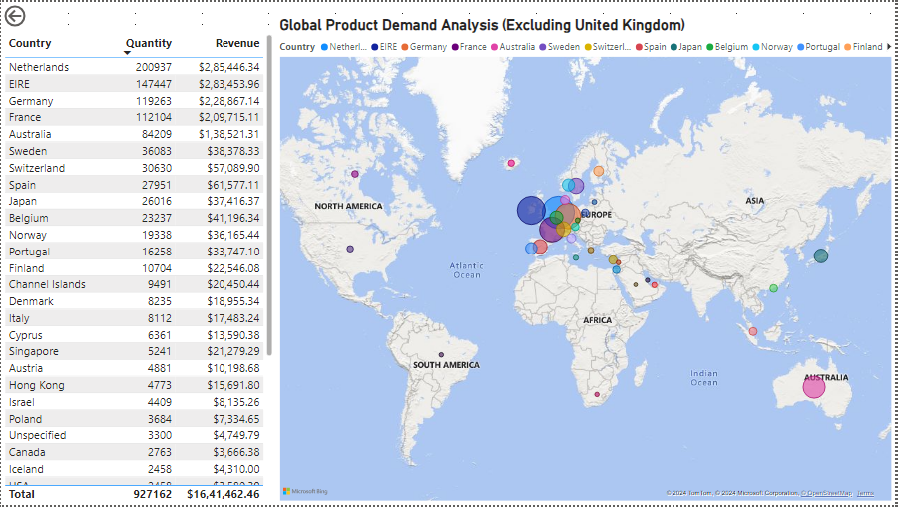

What the dashboard file says about the page in this screenshot:
{"tool":"powerbi","page":{"name":"Question 4","canvas":[1280,720],"ordinal":3},"visuals":[{"type":"map","title":"Global Product Demand Analysis (Excluding United Kingdom)","fields":{"Category":["OnlineRetail.Country"],"Size":["Sum(OnlineRetail.Quantity)"],"Series":["OnlineRetail.Country"]},"box":[394.2,20.4,885.8,699.6],"z":0},{"type":"actionButton","box":[0,0,100,40],"z":1000},{"type":"tableEx","fields":{"Values":["OnlineRetail.Country","Sum(OnlineRetail.Quantity)","Sum(OnlineRetail.Revenue)"]},"box":[0,40.7,394.2,679.3],"z":2000}]}

Visuals, with their boxes in screenshot pixels (x1, y1, x2, y2), scaled from the page's 1280x720 canvas onto the 898x507 screenshot:
"Global Product Demand Analysis (Excluding United Kingdom)" map: x1=277 y1=14 x2=897 y2=506
actionButton: x1=0 y1=0 x2=70 y2=28
tableEx - OnlineRetail.Country x Sum(OnlineRetail.Quantity): x1=0 y1=29 x2=277 y2=506
